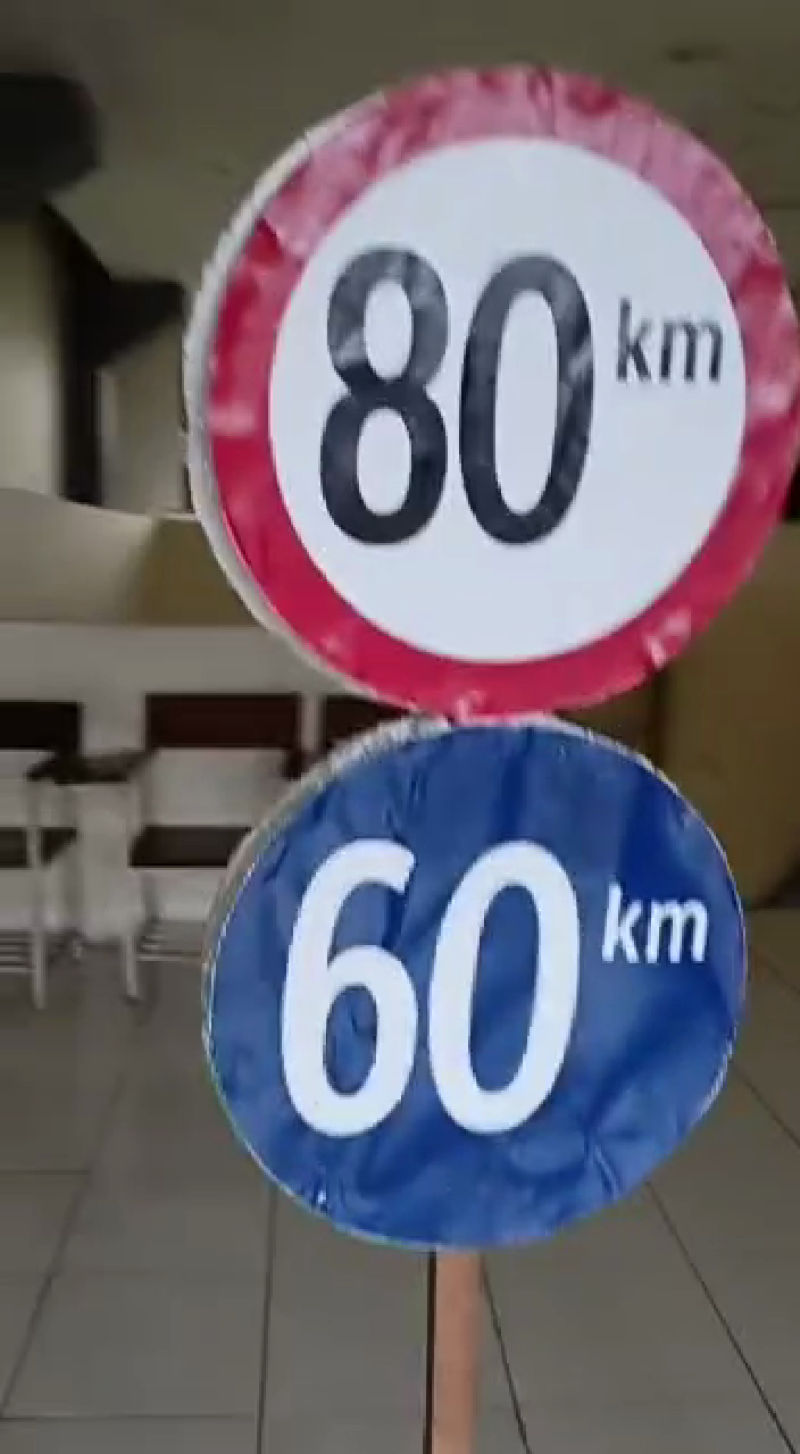batas maksimal 80kmperjam minimal 60kmperjam: (184, 35, 800, 1253)
